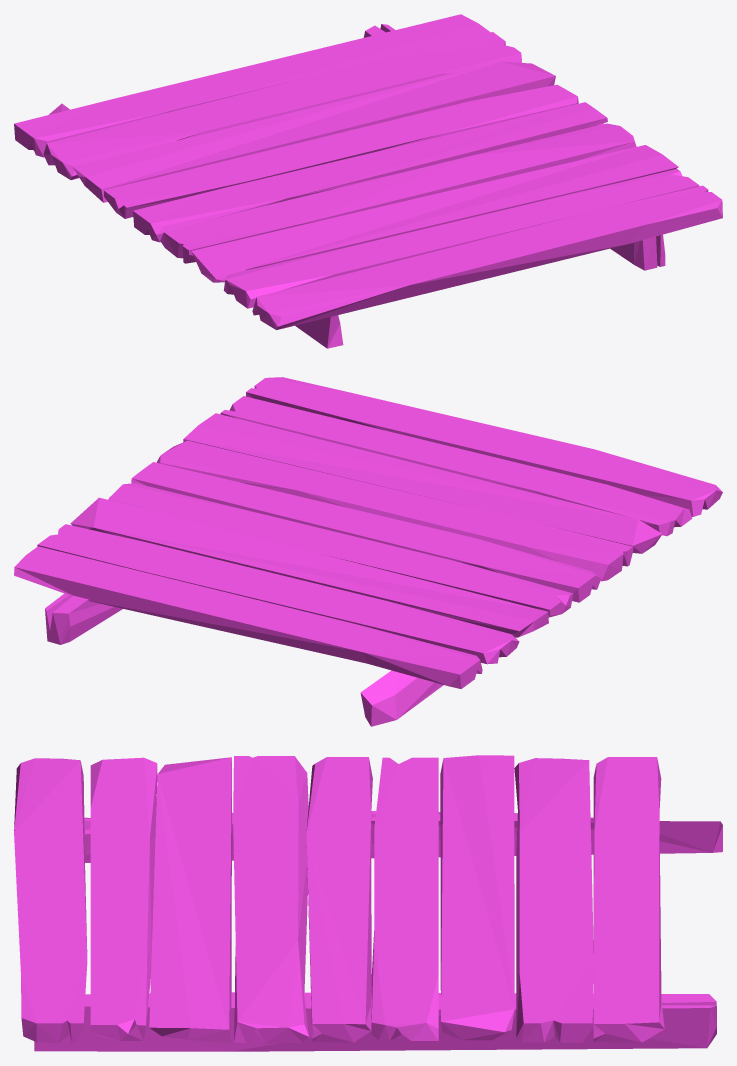
Rendered from SM_Pier_Base_Short_Fantasy.fbx.
3 views of the same model, one above another, from view 1: azimuth 30°, elevation 25°; view 2: azimuth 150°, elevation 25°; view 3: azimuth 270°, elevation 25° (orthographic). The views are drawn at different scales.
Visible parts, largest first — view 1: SM_Pier_Base_Short_Fantasy; view 2: SM_Pier_Base_Short_Fantasy; view 3: SM_Pier_Base_Short_Fantasy.
Part boxes in pixels (left/top/right/bottom): SM_Pier_Base_Short_Fantasy: left=14, top=14, right=722, bottom=348; SM_Pier_Base_Short_Fantasy: left=14, top=377, right=722, bottom=726; SM_Pier_Base_Short_Fantasy: left=14, top=755, right=722, bottom=1051.
Size of the model in its own units: 2.98 by 0.3399 by 3.3.
